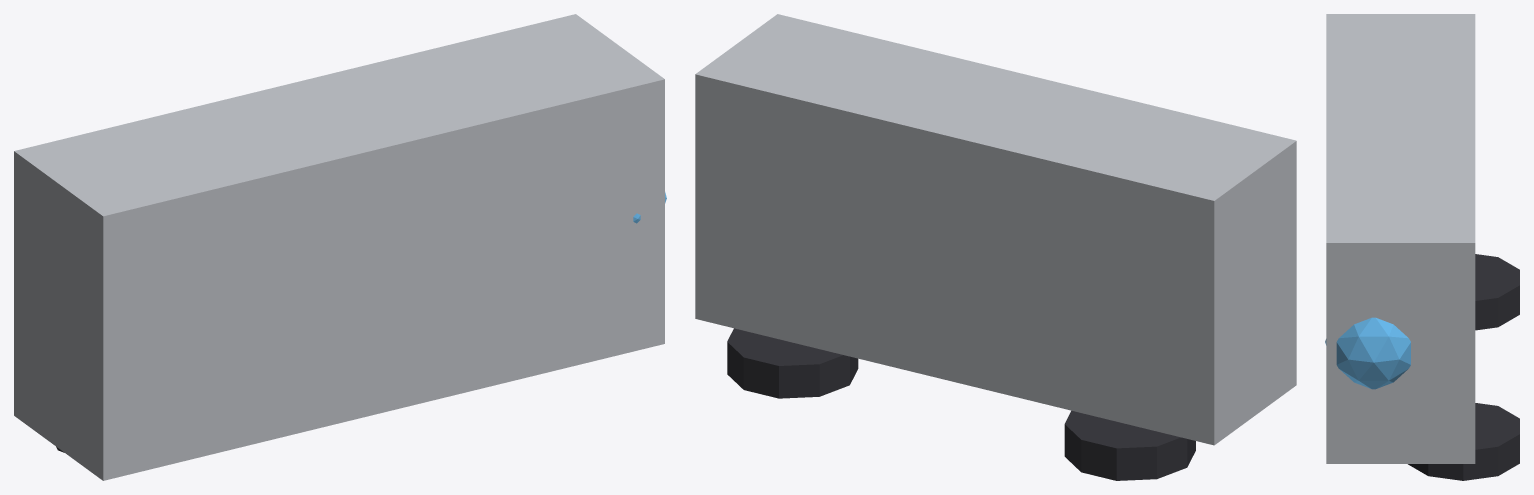
Rendered from subway_tram_car.glb.
3 renders of one model, left to right at view 1: azimuth 30°, elevation 25°; view 2: azimuth 150°, elevation 25°; view 3: azimuth 270°, elevation 25°, orthographic. The views are drawn at different scales.
Visible parts, largest first — view 1: vehicle_body; view 2: vehicle_body, wheel_a, wheel_b; view 3: vehicle_body, engine_glow, wheel_b, wheel_a.
Part boxes in pixels (bbox=[...]): vehicle_body: bbox=[14, 14, 664, 480]; vehicle_body: bbox=[695, 14, 1296, 445]; wheel_a: bbox=[1064, 410, 1195, 480]; wheel_b: bbox=[727, 328, 858, 398]; vehicle_body: bbox=[1326, 14, 1475, 463]; engine_glow: bbox=[1325, 317, 1410, 389]; wheel_b: bbox=[1408, 403, 1519, 480]; wheel_a: bbox=[1475, 254, 1519, 330].
Bounding box in the file's own units: 2.08 × 1.03 × 0.7192.
